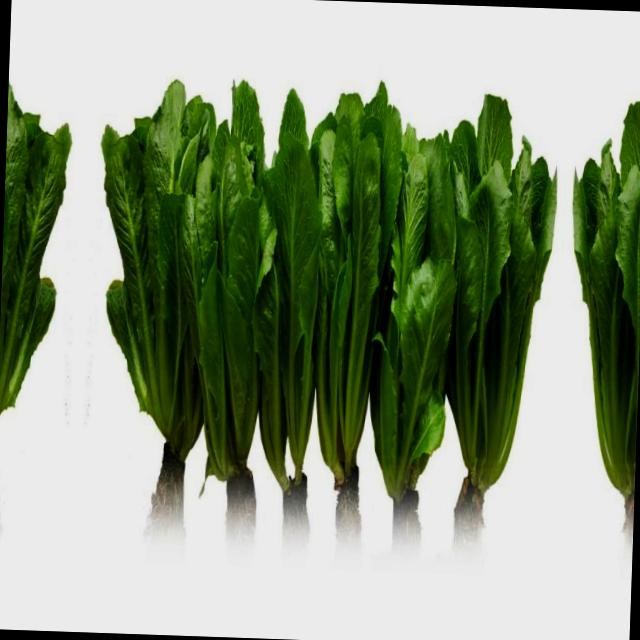healthy: (94, 78, 213, 474), (447, 94, 561, 495), (370, 114, 461, 502), (308, 82, 390, 498), (252, 87, 330, 496), (195, 76, 272, 488), (561, 98, 640, 498), (0, 74, 69, 469)
